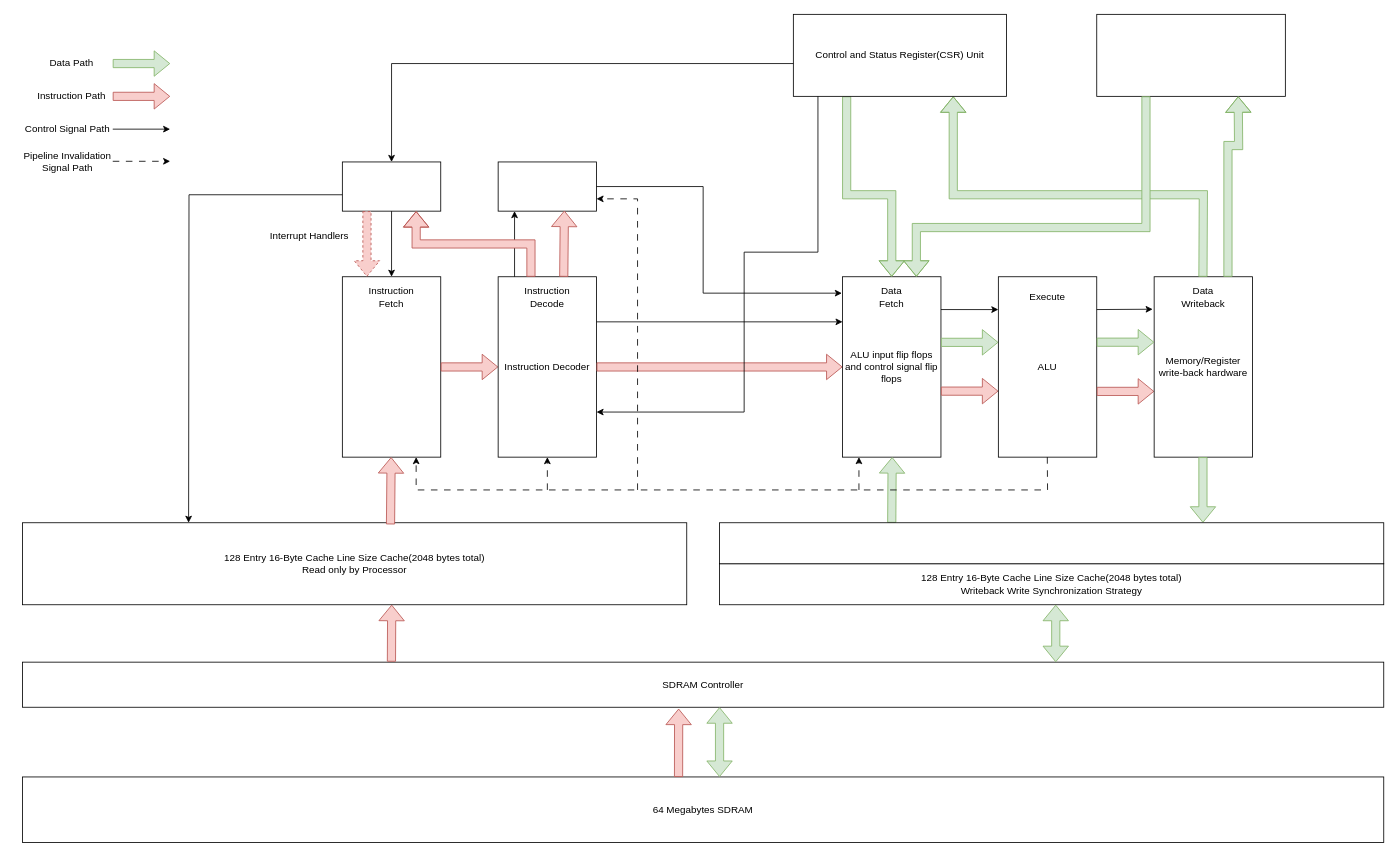
Image size: 1398x857. Some labels were removed from this diagram. Each missing label, with the box of its shape:
Instruction Queue with 4 Instructions: (342, 276, 441, 457)
Interrupt and Memory Ordering Controller: (342, 161, 441, 211)
Memory Mapped Peripheral Controller: (719, 522, 1384, 564)
Read-After-Write Scoreboard: (497, 161, 597, 211)
Two-Port Register File(32 x 32 bit): (1096, 14, 1285, 96)
